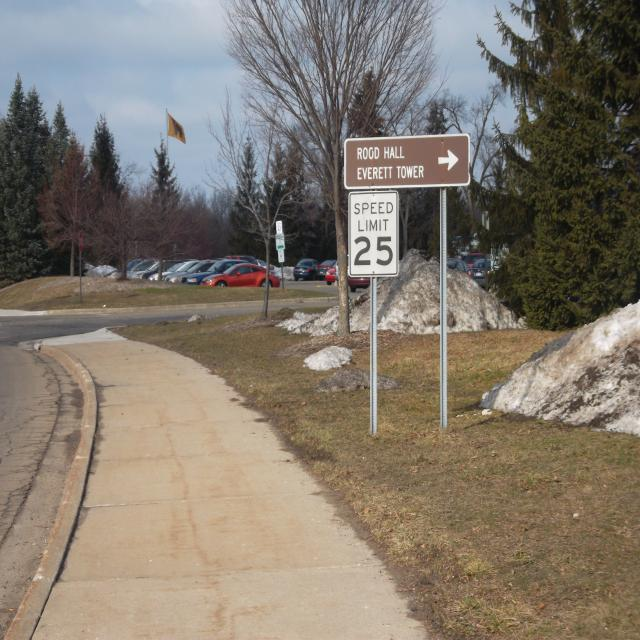regulatory: (348, 193, 398, 276)
